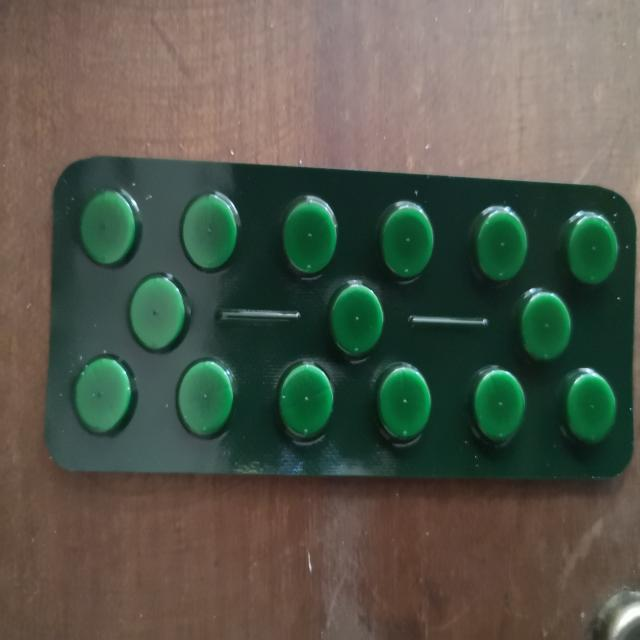Pill: (67, 346, 135, 437), (466, 360, 532, 450), (173, 192, 242, 278), (125, 266, 190, 356), (274, 188, 341, 275), (76, 180, 142, 268), (271, 357, 335, 446), (322, 276, 389, 358), (173, 357, 237, 442), (466, 196, 527, 285), (377, 199, 438, 283), (376, 361, 437, 444), (559, 208, 622, 288), (563, 368, 618, 447), (517, 287, 575, 360)
